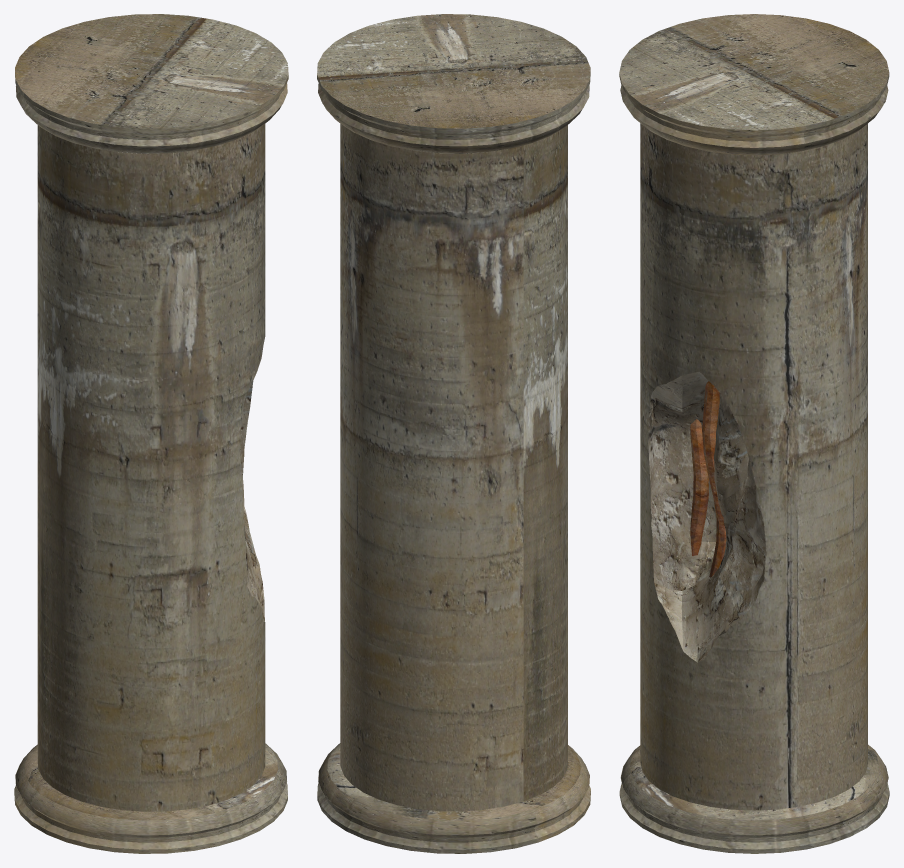
Rendered from pillar4.fbx.
3 views of the same model, side by side, from view 1: azimuth 30°, elevation 25°; view 2: azimuth 150°, elevation 25°; view 3: azimuth 270°, elevation 25° (orthographic).
Parts seen in each view (by area): view 1: Pillar; view 2: Pillar; view 3: Pillar, Rods.002, Rods.004.
Part boxes in pixels (x1=…): Pillar: x1=14, y1=14, x2=288, y2=853; Pillar: x1=317, y1=14, x2=590, y2=853; Pillar: x1=619, y1=14, x2=889, y2=853; Rods.002: x1=702, y1=381, x2=726, y2=577; Rods.004: x1=690, y1=419, x2=708, y2=555.
Size of the model in its own units: 242 by 702 by 237.
